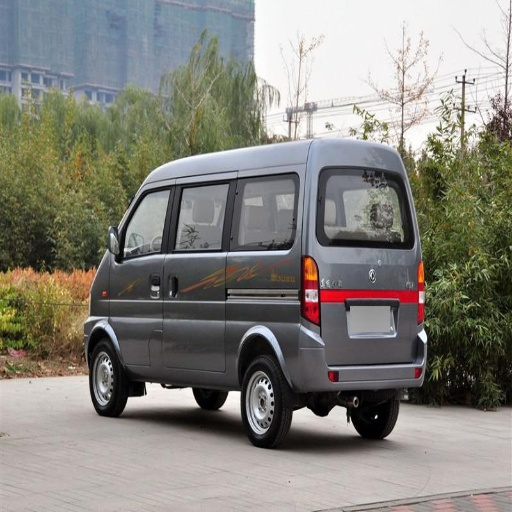back_bumper: (317, 353, 425, 390)
back_left_door: (167, 179, 218, 273)
front_left_door: (111, 181, 177, 316)
trunk: (144, 251, 422, 389)
